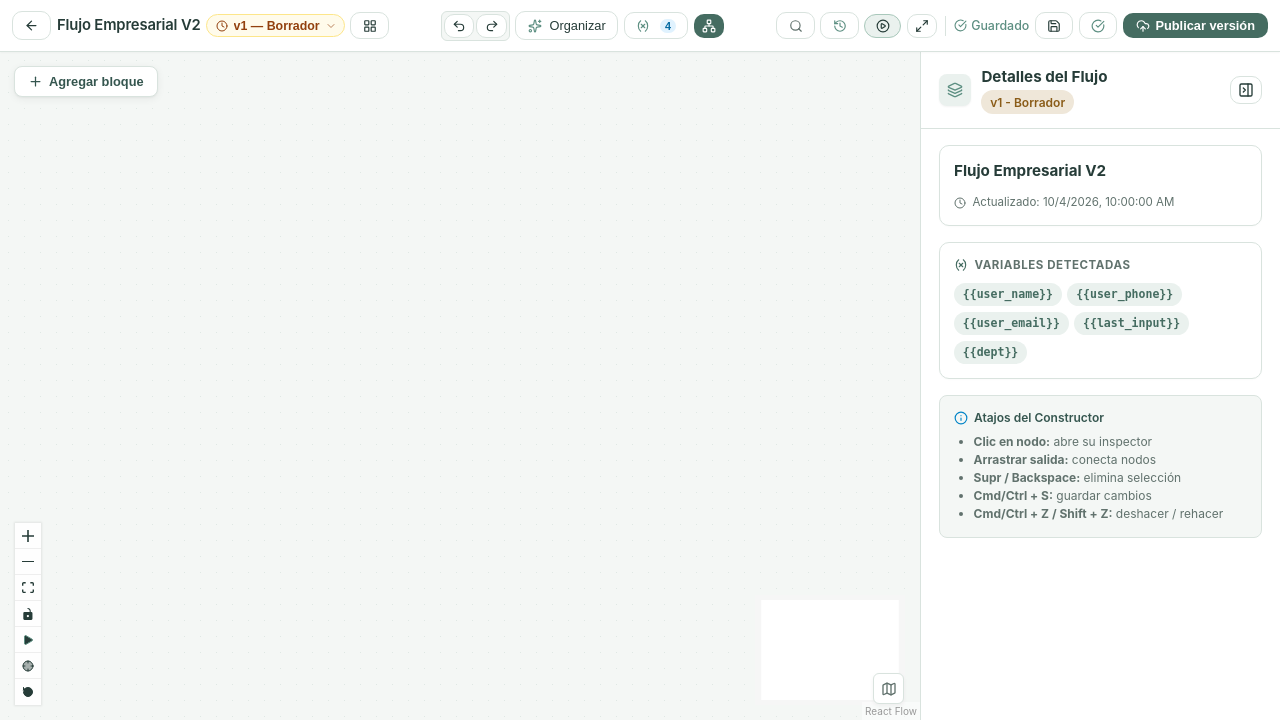
it: FlowEditor V2 Enhancements › provides Autoorganizar action and recalculates layout
Click the button with aria-label "Autoorganizar" at (567, 26), box [515,11,618,40]
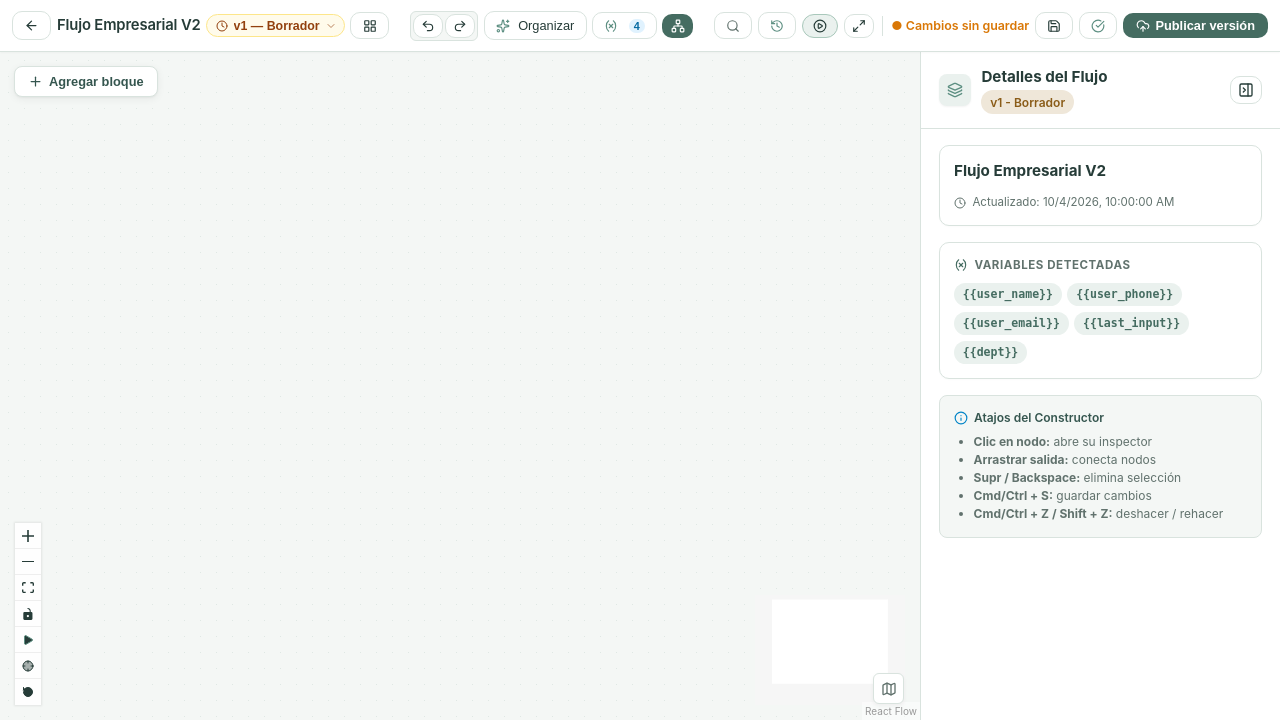
Now the text "● Cambios sin guardar" is shown, box [891,16,1029,34]
